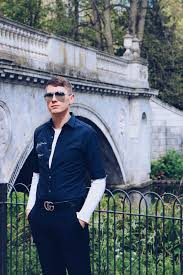F_belt: (25, 197, 96, 222)
